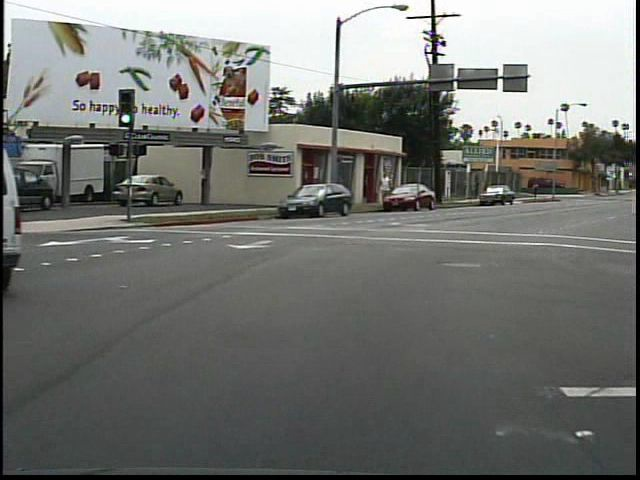person: (374, 166, 397, 210), (530, 178, 543, 204)
